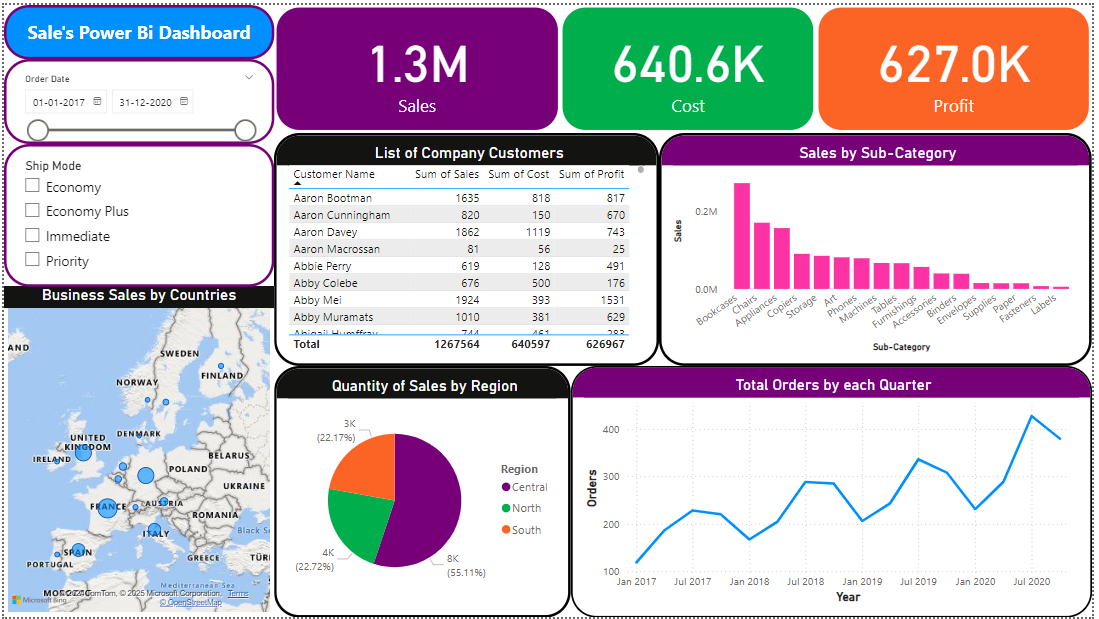

This screenshot's page, from the dashboard's own definition file:
{"tool":"powerbi","page":{"name":"Page 1","canvas":[1280,720],"ordinal":0},"visuals":[{"type":"card","fields":{"Values":["Sum(List of Orders.Sales)"]},"box":[317.4,0,336.7,150.4],"z":0},{"type":"card","fields":{"Values":["Sum(List of Orders.Cost)"]},"box":[654.4,0,301.1,150],"z":1000},{"type":"card","fields":{"Values":["Sum(List of Orders.Profit)"]},"box":[955.6,0,324.4,150],"z":2000},{"type":"tableEx","title":"List of Company Customers","fields":{"Values":["List of Orders.Customer Name","Sum(List of Orders.Sales)","Sum(List of Orders.Cost)","Sum(List of Orders.Profit)"]},"box":[317.8,150,453.3,274.4],"z":3000},{"type":"clusteredColumnChart","title":"Sales by Sub-Category","fields":{"Y":["Sum(List of Orders.Sales)"],"Category":["List of Orders.Sub-Category"]},"box":[771.1,150,508.9,274.4],"z":4000},{"type":"lineChart","title":"Total Orders by each Quarter","fields":{"Y":["CountNonNull(List of Orders.Order ID)"],"Category":["List of Orders.Order Date.Variation.Date Hierarchy.Year","List of Orders.Order Date.Variation.Date Hierarchy.Quarter"]},"box":[666.7,424.4,613.3,295.6],"z":5000},{"type":"pieChart","title":" Quantity of Sales by Region","fields":{"Category":["List of Orders.Region"],"Y":["Sum(List of Orders.Quantity)"]},"box":[317.8,424.4,348.9,295.6],"z":6000},{"type":"map","title":"Business Sales by Countries","fields":{"Category":["List of Orders.Country"],"Size":["Sum(List of Orders.Sales)"]},"box":[0,331.1,317.8,388.9],"z":7000},{"type":"textbox","box":[0,0,317.6,63.5],"z":8000},{"type":"slicer","fields":{"Values":["List of Orders.Ship Mode"]},"box":[0,163.3,317.8,167.8],"z":9000},{"type":"slicer","fields":{"Values":["List of Orders.Order Date"]},"box":[0,63.5,317.6,100],"z":10000}]}

Visuals, with their boxes in screenshot pixels (x1, y1, x2, y2), scaled from the page's 1280x720 canvas onto the 1099x619 screenshot:
card - Sum(List of Orders.Sales): l=273, t=0, r=562, b=129
card - Sum(List of Orders.Cost): l=562, t=0, r=820, b=129
card - Sum(List of Orders.Profit): l=820, t=0, r=1098, b=129
"List of Company Customers" tableEx: l=273, t=129, r=662, b=365
"Sales by Sub-Category" clusteredColumnChart: l=662, t=129, r=1098, b=365
"Total Orders by each Quarter" lineChart: l=572, t=365, r=1098, b=618
" Quantity of Sales by Region" pieChart: l=273, t=365, r=572, b=618
"Business Sales by Countries" map: l=0, t=285, r=273, b=618
textbox: l=0, t=0, r=273, b=55
slicer - List of Orders.Ship Mode: l=0, t=140, r=273, b=285
slicer - List of Orders.Order Date: l=0, t=55, r=273, b=141
